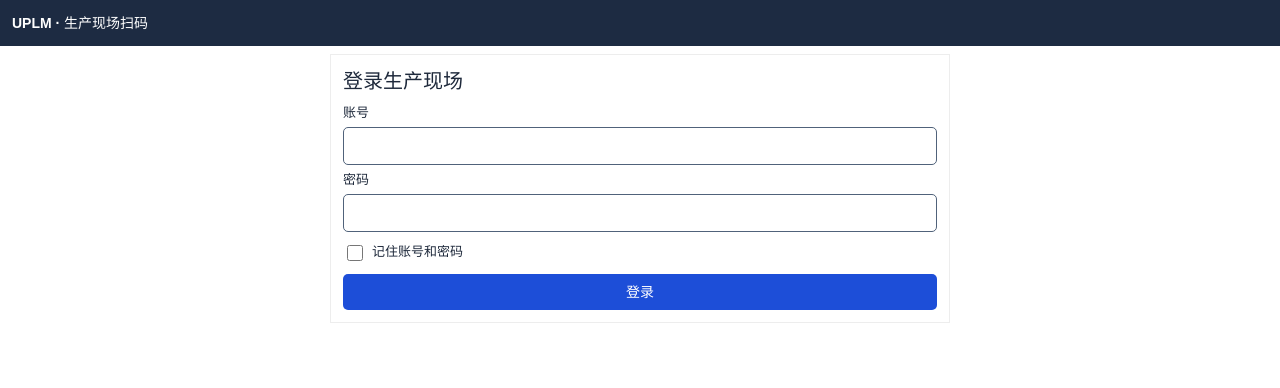
Scenario: 生产现场记住账号和密码 › 登录失败不保存密码，保存失败也不阻止成功登录
Type "admin" into the field labelled "账号".
click(640, 146); type("admin")  # box [343,127,937,165]
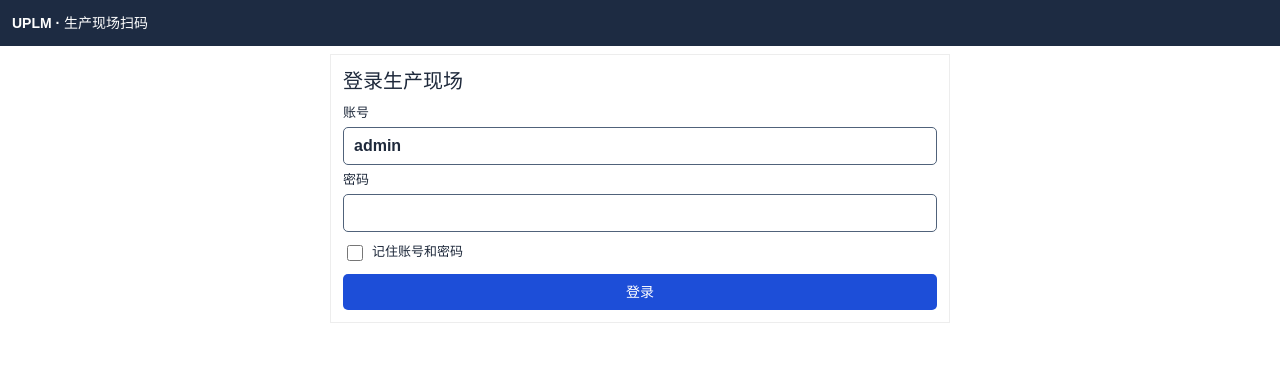
Type "test-only" into the password field labelled "密码".
click(640, 213); type("test-only")  # box [343,194,937,232]
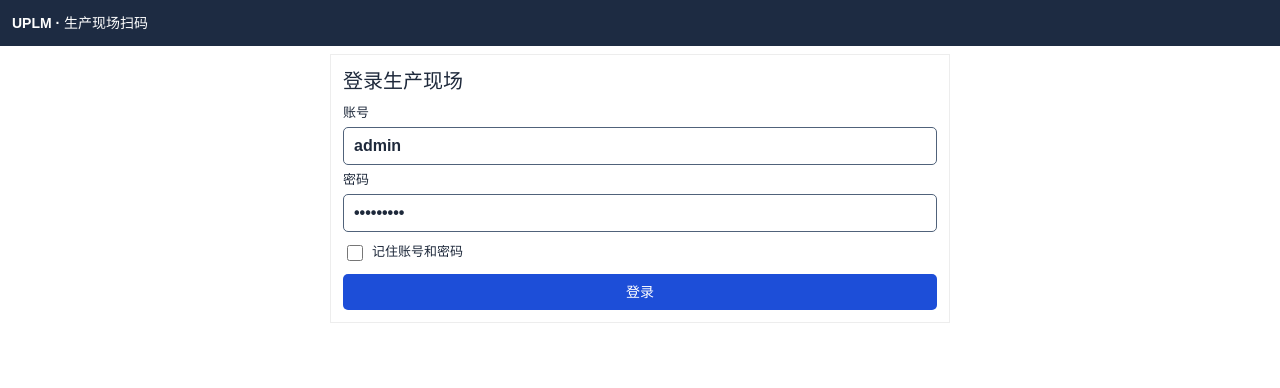
Click the checkbox labelled "记住账号和密码".
click(355, 253)  # box [347,245,363,261]
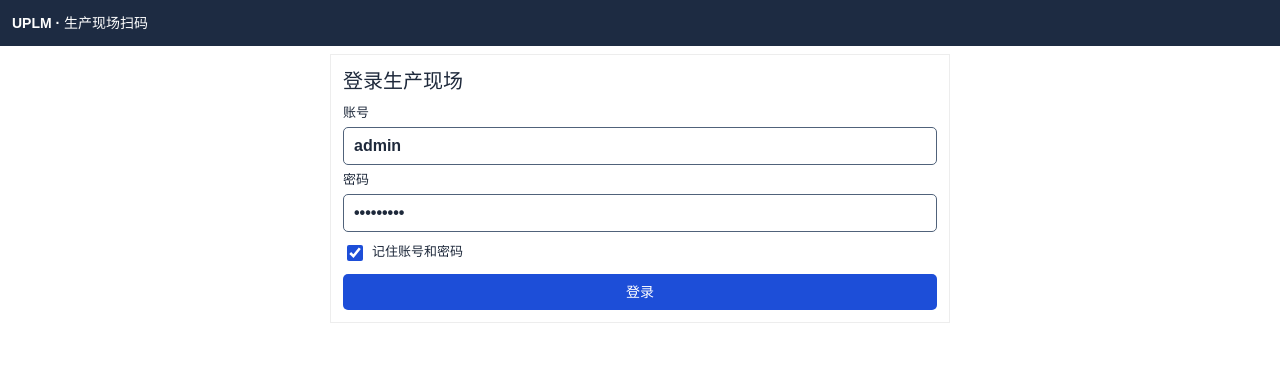
Submit the form, box [330,54,950,323]
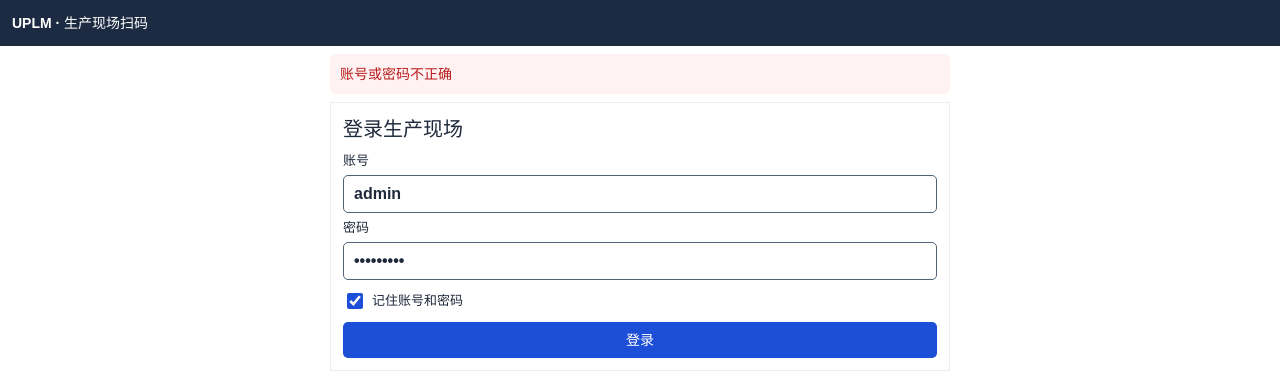
Expected: the message "账号或密码不正确" is shown, [330,54,950,94]
Submit the form, box [330,102,950,371]
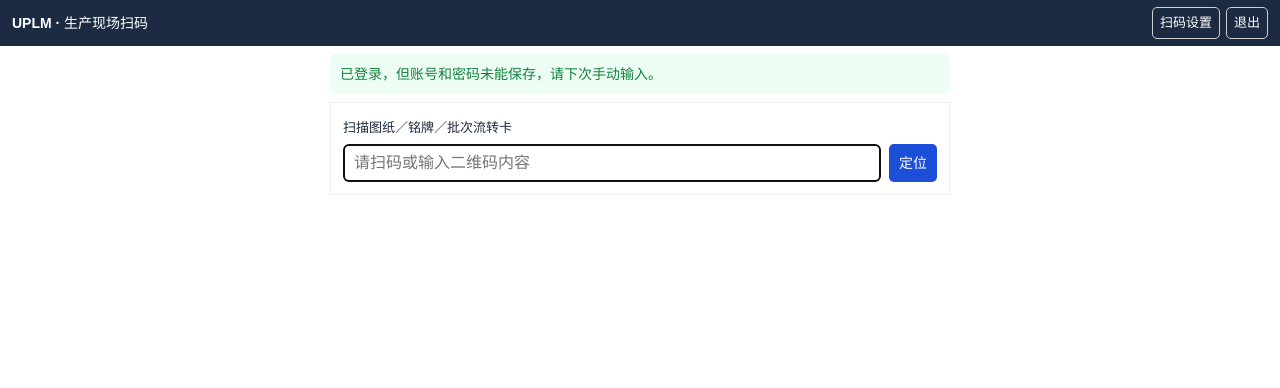
Expected: the message "已登录，但账号和密码未能保存，请下次手动输入。" is shown, [330,54,950,94]
Expected: the field labelled "扫描图纸／铭牌／批次流转卡" is shown, [343,144,881,182]
